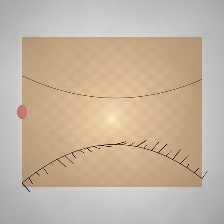pinguecula_lesion: (138, 100, 176, 131)
